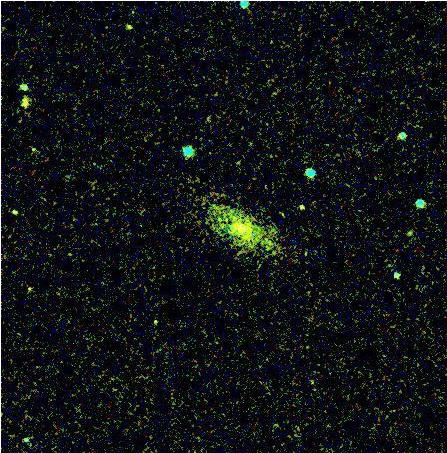star: (285, 191, 315, 221)
